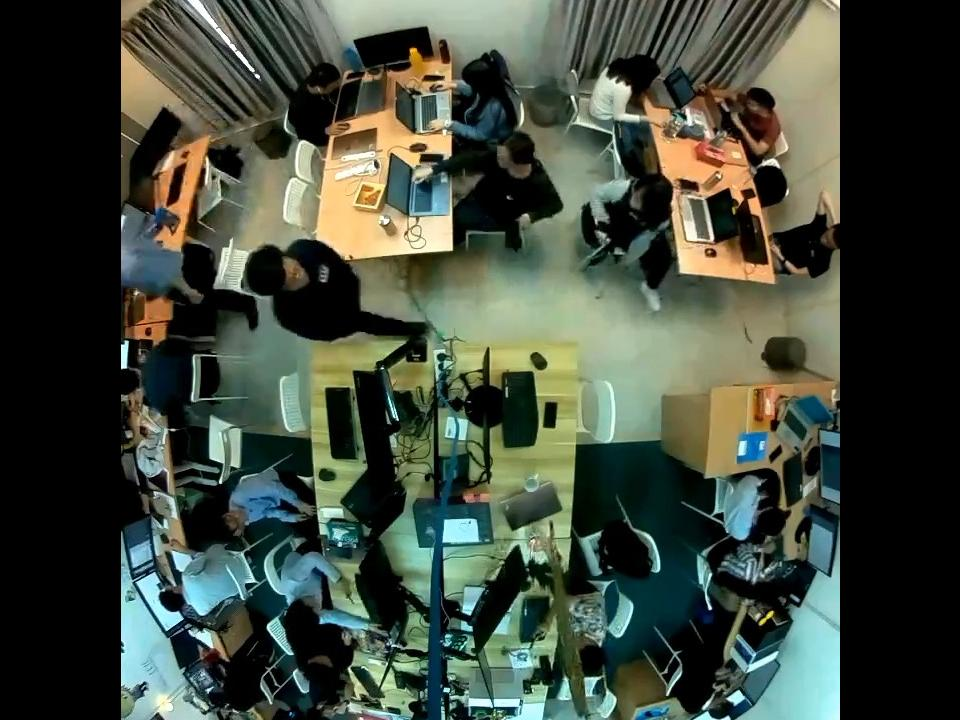name-tag: (317, 262, 329, 284)
